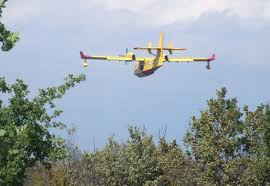plane: (79, 31, 216, 78)
